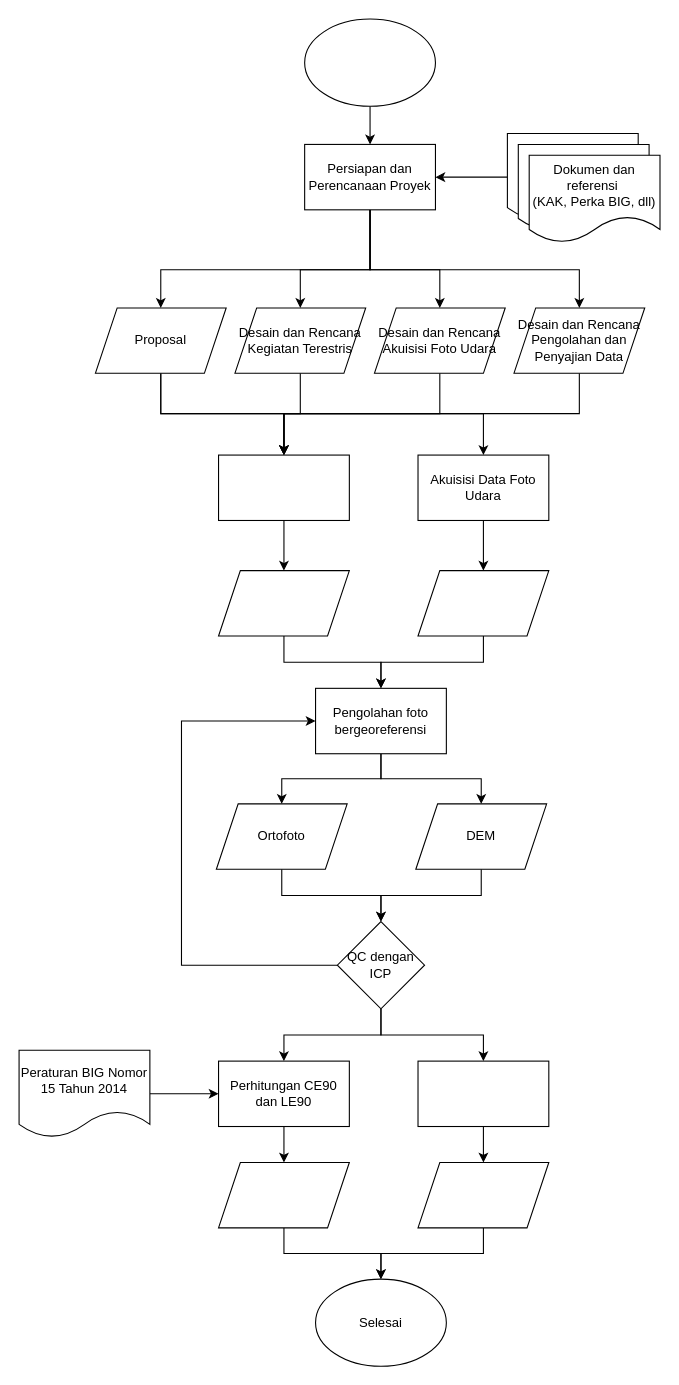
This 679x1385 diagram has some shape labels left out. The box of each missing label's shape, as (x1, y1, x2, y2) in pixels:
Akuisisi Data GNSS: (217, 454, 349, 520)
Data Koordinat ICP dan GCP: (217, 570, 349, 636)
Data Mentah Foto Udara: (417, 570, 549, 636)
Kelas peta untuk ketelitian horizontal dan vertikal: (217, 1161, 349, 1228)
Layouting Peta Rupa Bumi: (417, 1060, 549, 1127)
Mulai: (304, 18, 435, 106)
Peta Rupa Bumi ITB Kampus Ganesha: (417, 1161, 549, 1228)
